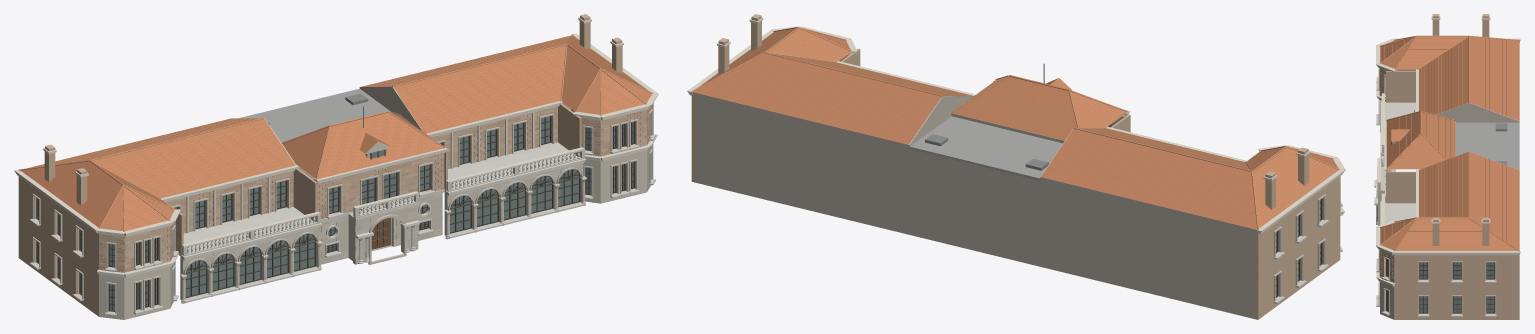
The model's file is jingan-jewish-club-raw.glb.
3 views of the same model, side by side, from view 1: azimuth 30°, elevation 25°; view 2: azimuth 150°, elevation 25°; view 3: azimuth 270°, elevation 25° (orthographic). The views are drawn at different scales.
Parts seen in each view (by area): view 1: 原上海犹太人总会南京西路722号南楼; view 2: 原上海犹太人总会南京西路722号南楼; view 3: 原上海犹太人总会南京西路722号南楼.
Boxes of the visible parts, <box> form: 原上海犹太人总会南京西路722号南楼: <box>14,14,658,319</box>; 原上海犹太人总会南京西路722号南楼: <box>687,14,1345,319</box>; 原上海犹太人总会南京西路722号南楼: <box>1374,14,1520,319</box>.
Size of the model in its own units: 57.66 by 13.35 by 16.66.
